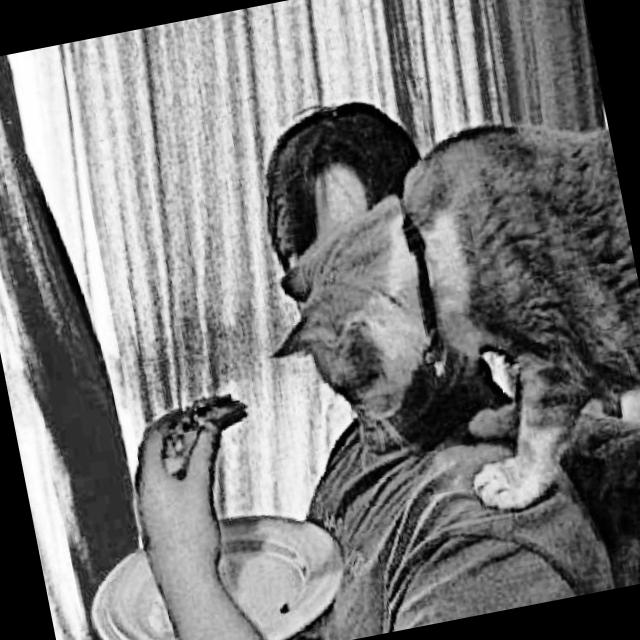Cat: (245, 86, 640, 544)
